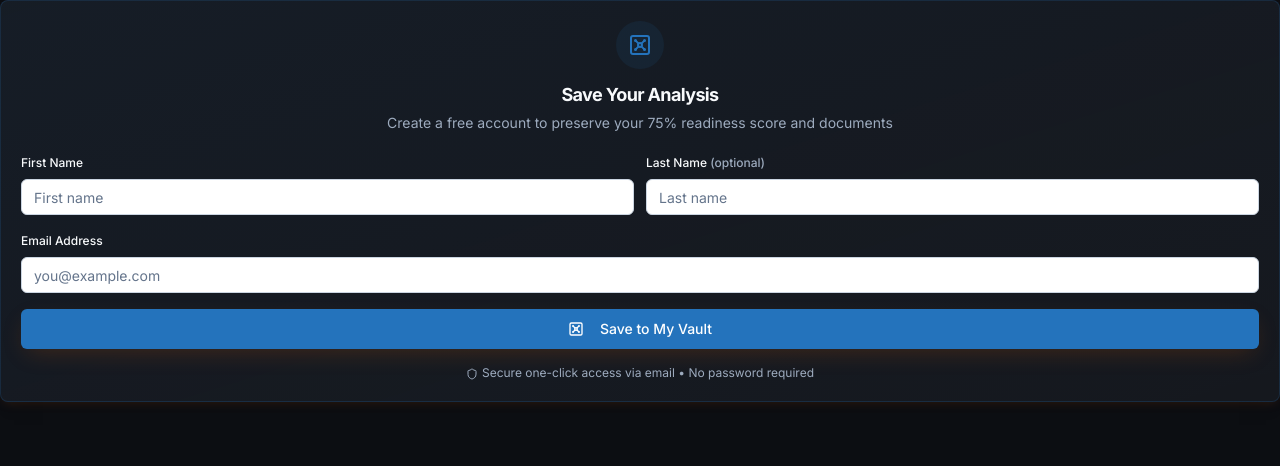
Test: ClaimVaultSyncButton › Form Validation › validates all fields on submit and shows errors
The width and height of the screenshot is (1280, 466).
# Submit with empty fields
Click the button "Save to My Vault" at [640, 329], box x1=21 y1=309 x2=1259 y2=349
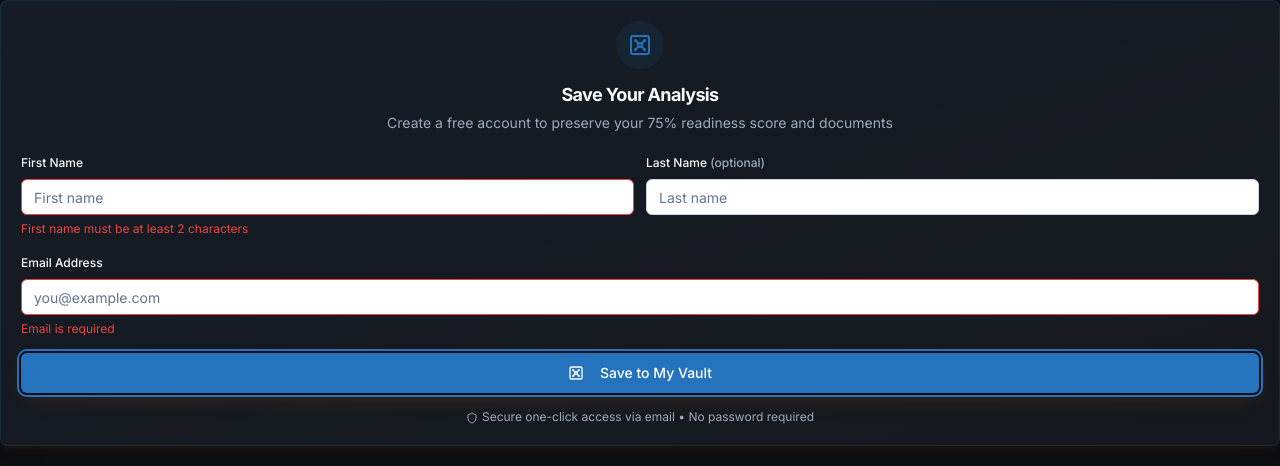
Check: the text "First name must be at least 2 characters" is shown, box x1=21 y1=221 x2=248 y2=236
Check: the text "Email is required" is shown, box x1=21 y1=321 x2=115 y2=336
